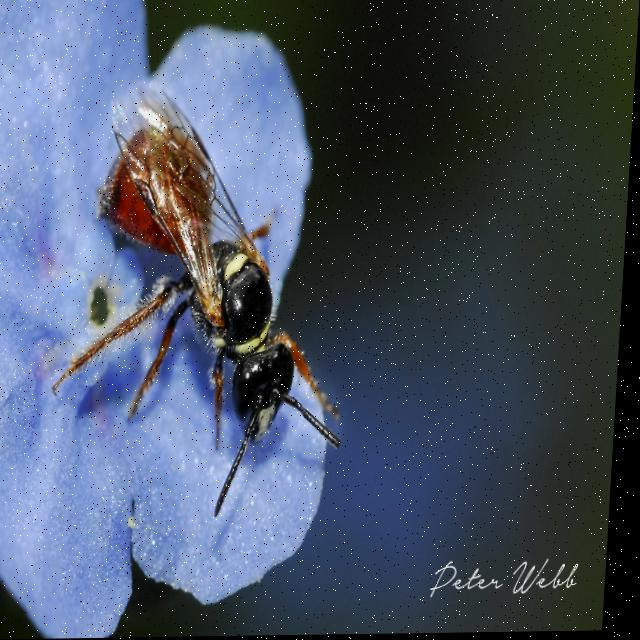Allodapula: (35, 69, 373, 538)
